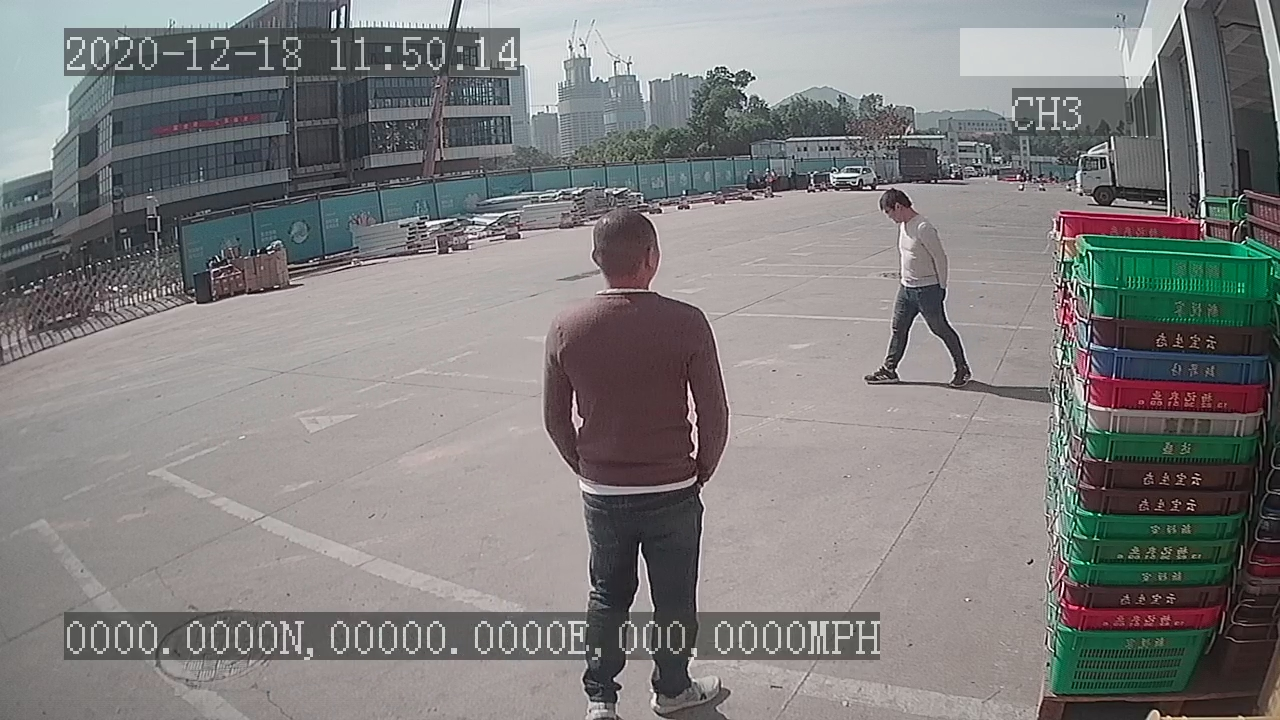person: (859, 188, 976, 394)
